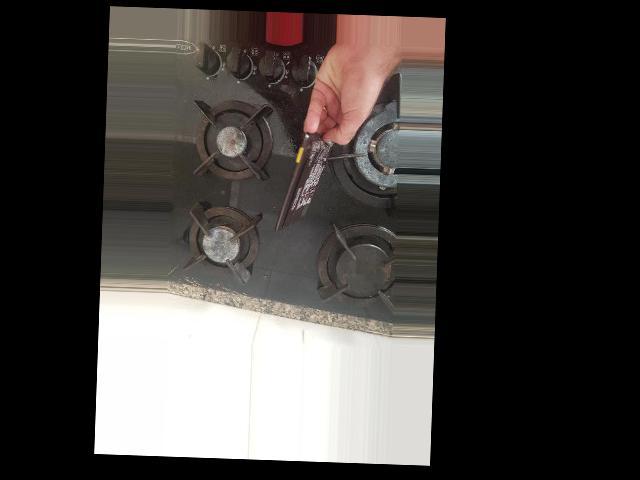chocolate: (273, 121, 336, 233)
